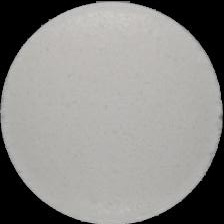0781-1181: (0, 0, 224, 224)
